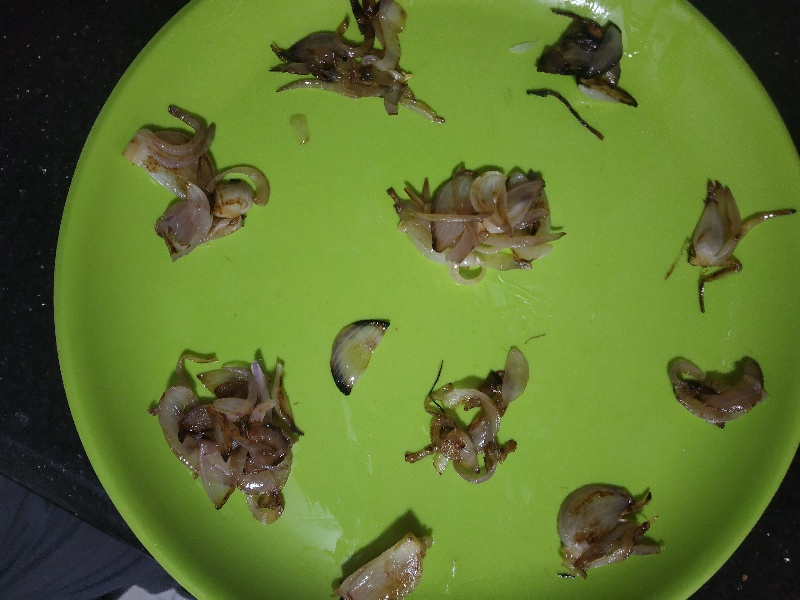onion_burnt: (275, 1, 425, 105), (531, 14, 643, 104)
onion_fried: (146, 350, 305, 529), (425, 367, 523, 488), (554, 477, 654, 583), (675, 363, 779, 426)
onion_golden: (135, 110, 267, 268), (387, 166, 566, 279), (336, 531, 432, 600), (689, 176, 751, 277)
